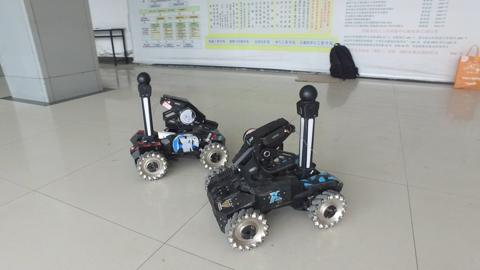chariot: (202, 85, 347, 258), (116, 72, 233, 181)
